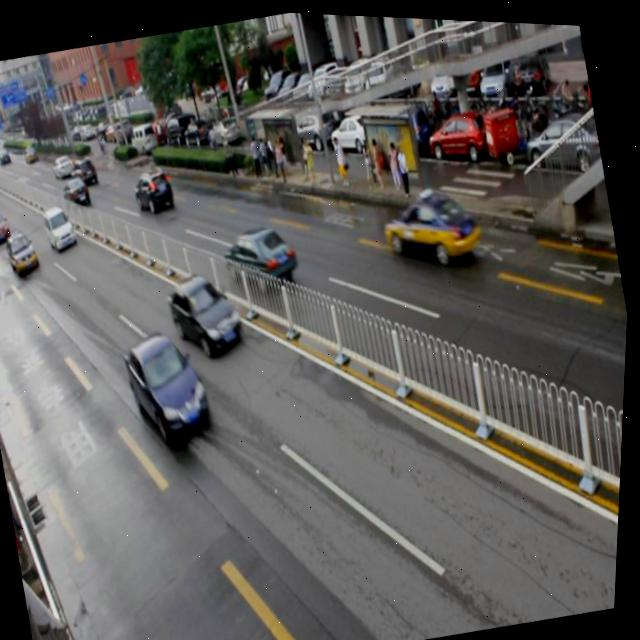car: (121, 324, 221, 449), (379, 175, 488, 273), (163, 266, 251, 361), (220, 217, 304, 293), (132, 163, 178, 215), (4, 226, 45, 277), (42, 202, 82, 252), (61, 174, 94, 209)
